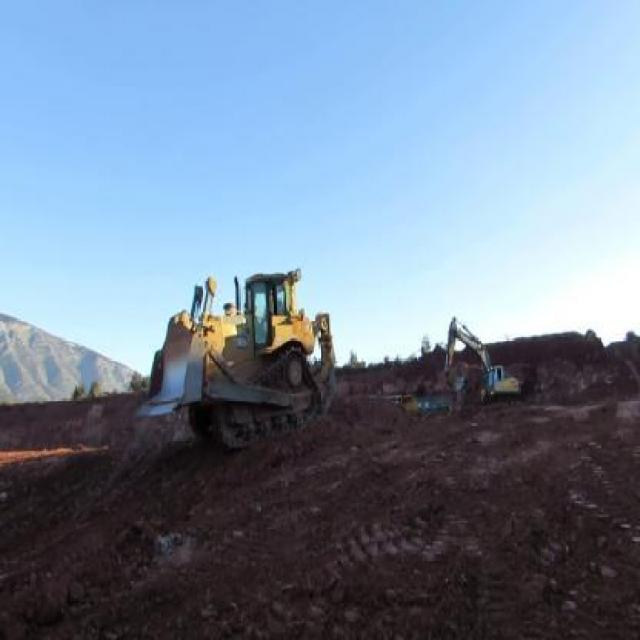Bulldozer: (134, 264, 334, 461)
Excavator: (443, 314, 520, 404)
